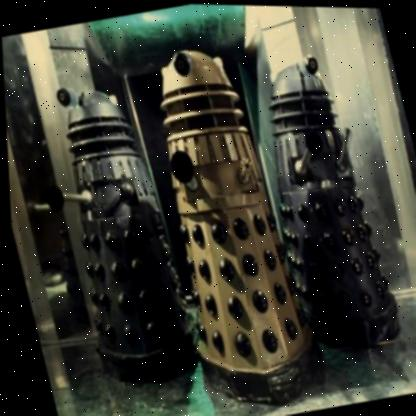dalek: (108, 24, 319, 407), (224, 24, 416, 366), (4, 65, 202, 387)
